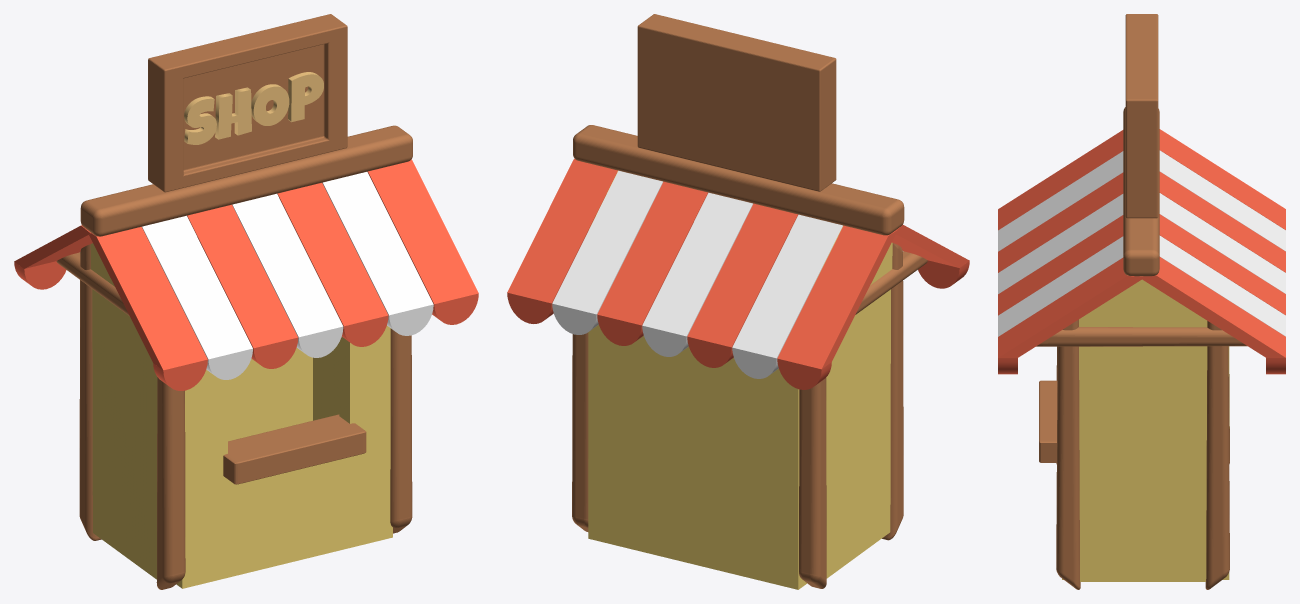
File: Shop_Model_Walls.fbx
3 views of the same model, side by side, from view 1: azimuth 30°, elevation 25°; view 2: azimuth 150°, elevation 25°; view 3: azimuth 270°, elevation 25° (orthographic). The views are drawn at different scales.
Parts seen in each view (by area): view 1: Cube.004, Cube.012, Cube, Cube.015, Cube.003, Cube.017, Cube.010, Cube.014, Text, Cube.008, Cube.011, Cube.006 (+2 smaller); view 2: Cube.006, Cube.014, Cube, Cube.015, Cube.003, Cube.011, Cube.010, Cube.009, Cube.004, Cube.007; view 3: Cube.013, Cube.006, Cube.004, Cube, Cube.008, Cube.009, Cube.016, Cube.005, Cube.003, Cube.017.
Boxes of the visible parts, <box> form: Cube.004: <box>89,159,478,390</box>; Cube.012: <box>176,326,392,588</box>; Cube: <box>148,14,347,192</box>; Cube.015: <box>92,289,157,579</box>; Cube.003: <box>80,125,412,236</box>; Cube.017: <box>223,414,366,484</box>; Cube.010: <box>156,377,185,589</box>; Cube.014: <box>228,348,312,441</box>; Text: <box>184,72,323,144</box>; Cube.008: <box>390,328,412,533</box>; Cube.011: <box>79,244,101,540</box>; Cube.006: <box>14,225,92,289</box>; Cube.006: <box>507,159,897,389</box>; Cube.014: <box>588,324,806,589</box>; Cube: <box>637,14,836,191</box>; Cube.015: <box>826,289,890,578</box>; Cube.003: <box>573,125,904,235</box>; Cube.011: <box>799,377,826,588</box>; Cube.010: <box>882,243,903,540</box>; Cube.009: <box>572,332,588,531</box>; Cube.004: <box>892,225,969,288</box>; Cube.007: <box>855,251,927,314</box>; Cube.013: <box>1079,346,1207,581</box>; Cube.006: <box>1142,129,1285,374</box>; Cube.004: <box>998,130,1145,374</box>; Cube: <box>1125,14,1158,218</box>; Cube.008: <box>1056,319,1080,589</box>; Cube.009: <box>1205,321,1229,589</box>; Cube.016: <box>1079,279,1207,327</box>; Cube.005: <box>1036,327,1247,346</box>; Cube.003: <box>1123,107,1159,276</box>; Cube.017: <box>1039,380,1057,462</box>.
Bounding box in the file's own units: 484 × 717 × 391.
